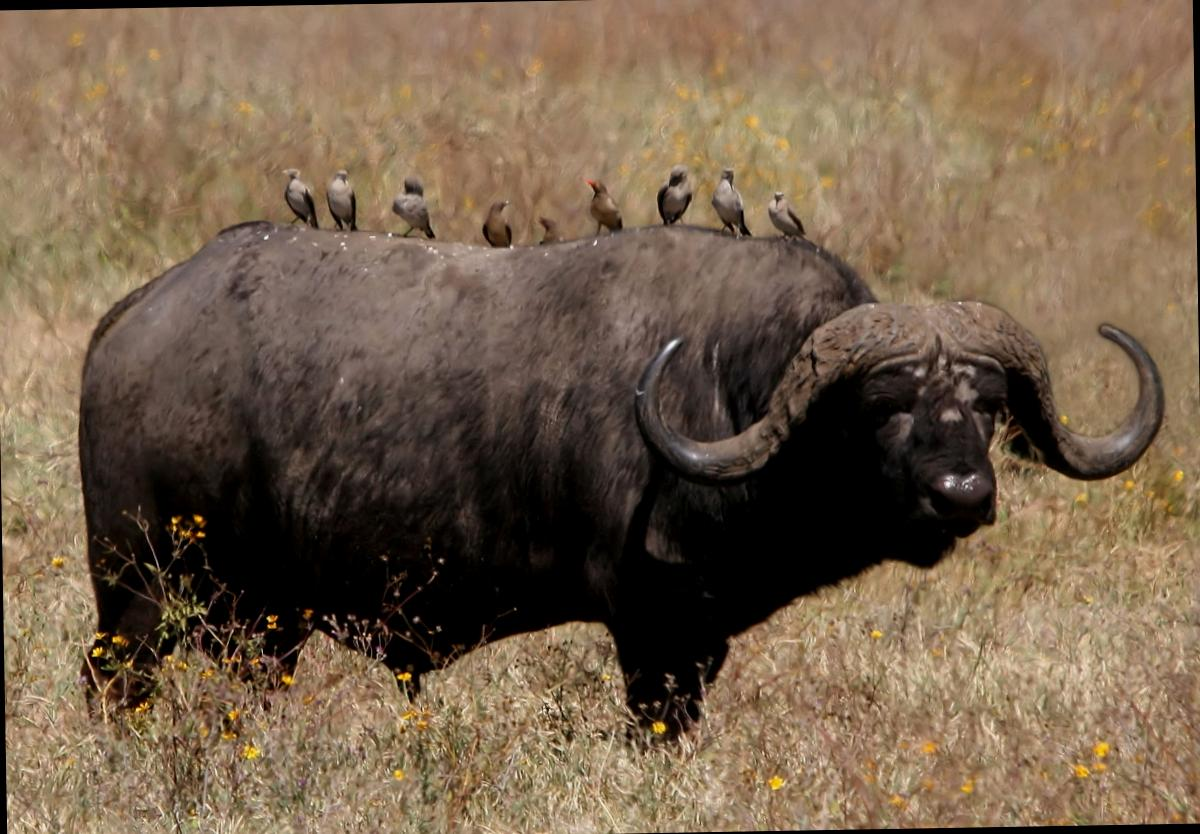Buffalo: (12, 81, 1200, 729)
